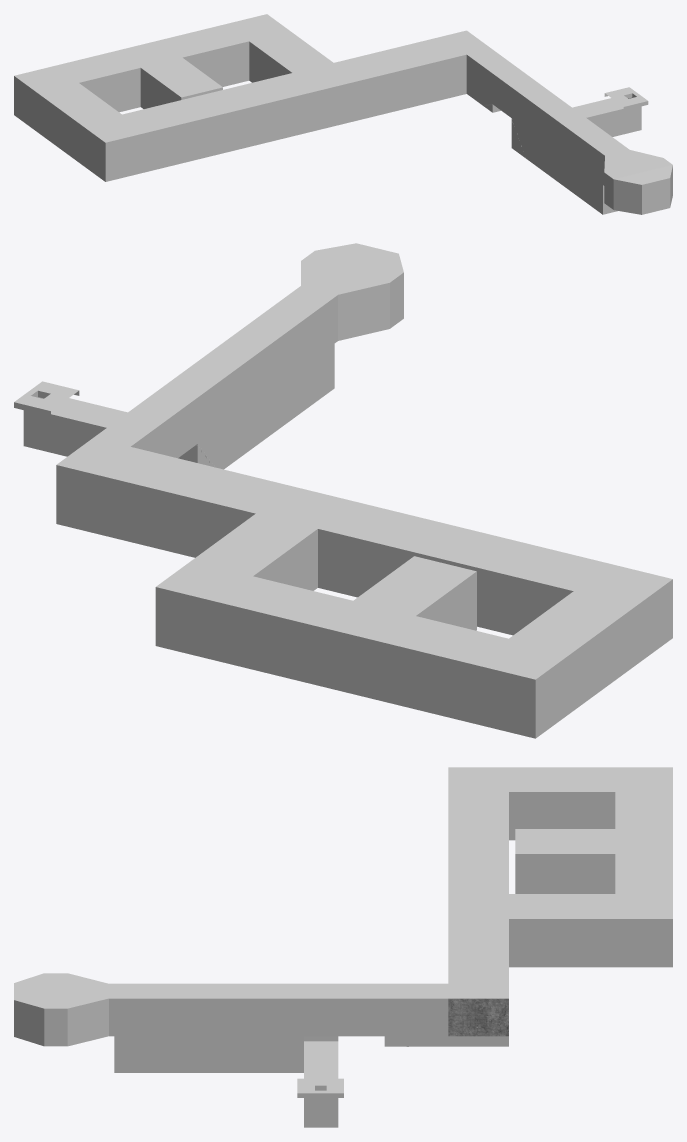
Rendered from Alcantarilla reformada.fbx.
3 renders of one model, top to bottom at view 1: azimuth 30°, elevation 25°; view 2: azimuth 150°, elevation 25°; view 3: azimuth 270°, elevation 25°, orthographic. The views are drawn at different scales.
Visible parts, largest first — view 1: Alcantarilla; view 2: Alcantarilla; view 3: Alcantarilla.
Boxes of the visible parts, <box> form: Alcantarilla: <box>14,14,672,214</box>; Alcantarilla: <box>14,243,672,738</box>; Alcantarilla: <box>14,767,672,1127</box>.
Size of the model in its own units: 11591 by 1398 by 11194.
Materials: 2 (1 with a texture image).
